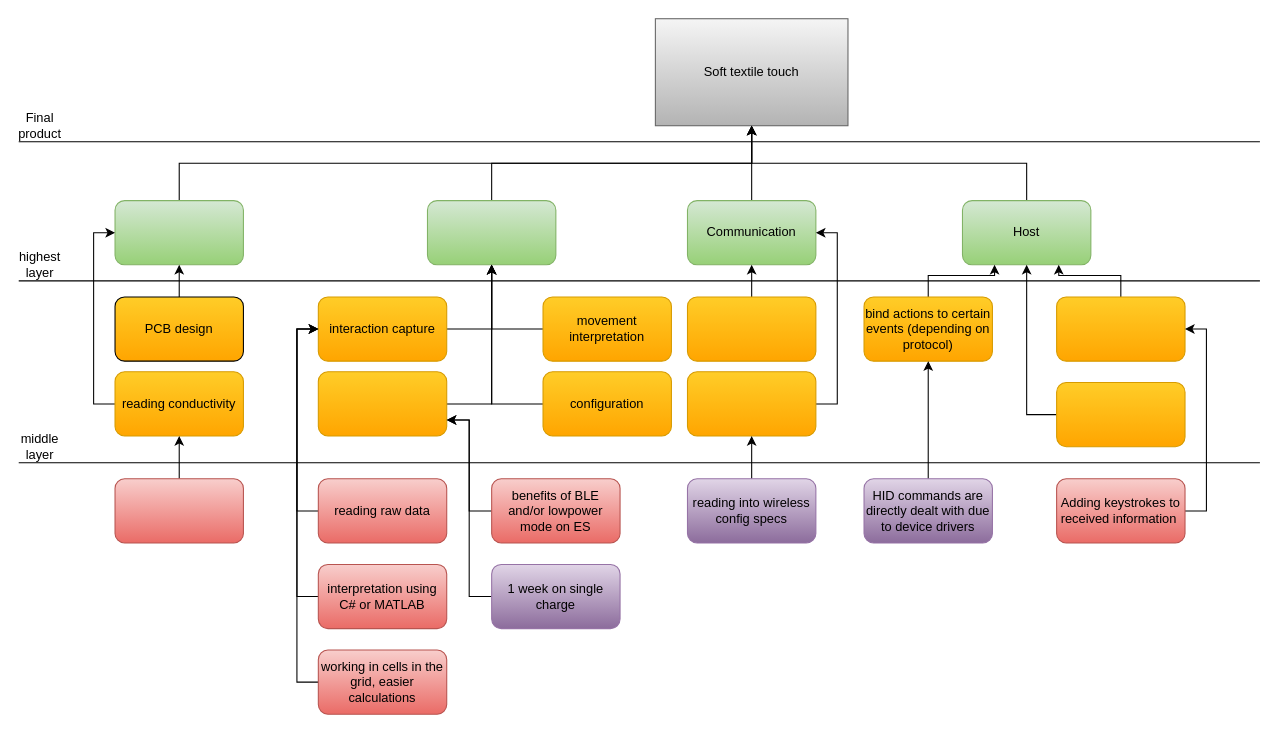
This 1279x733 diagram has some shape labels left out. Each missing label, with the centre of its shape:
configuration application: the point at 1120,328
energy management: the point at 382,403
Firmware: the point at 491,232
Hardware design choices: the point at 178,232
Ic or in code?: the point at 178,510
Implementation of given protocol/interface: the point at 751,328
transmit protocol over interface: the point at 751,403
variety of devices (iPhone, android, windows, mac, linux): the point at 1120,414
